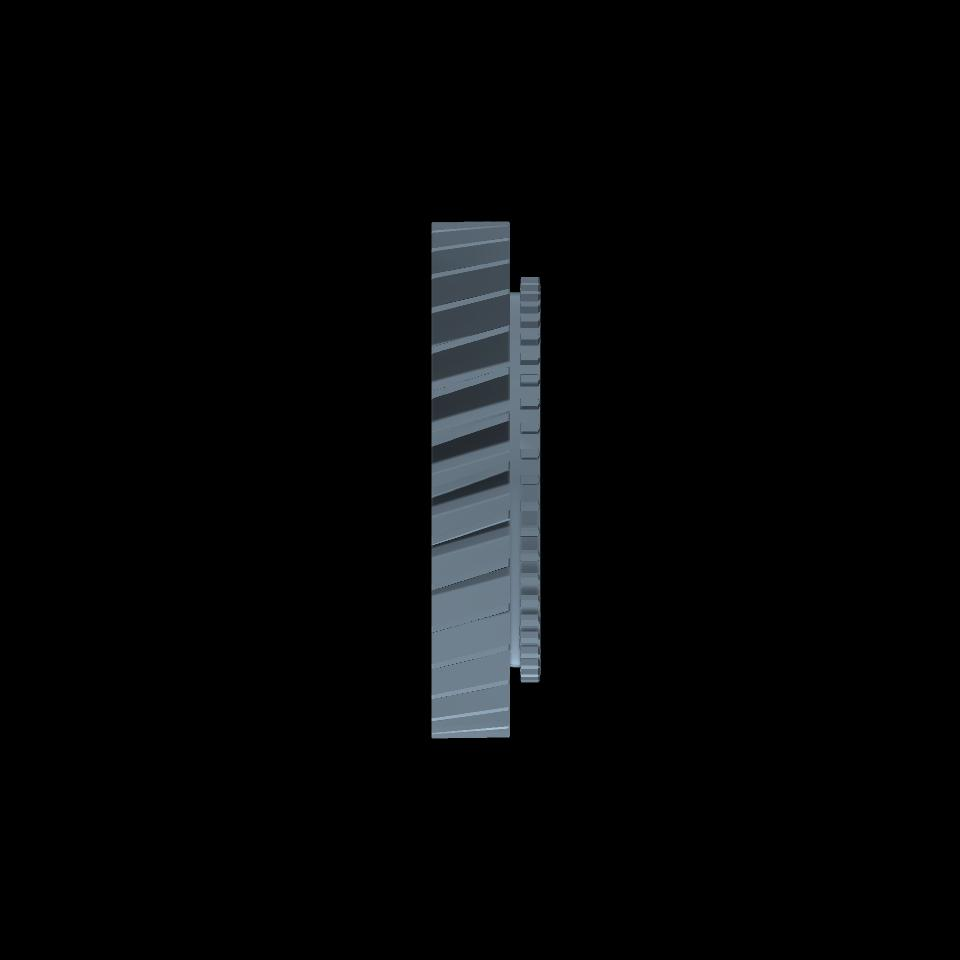Helical: (431, 221, 508, 738)
Straight: (521, 277, 536, 679)
